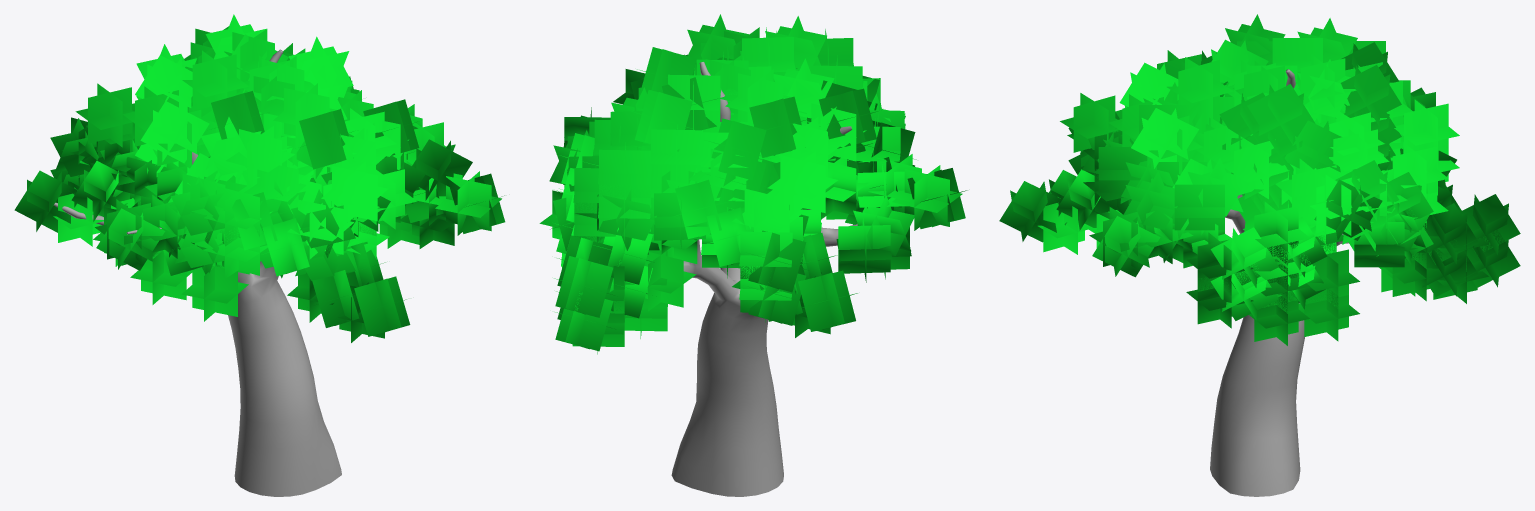
File: MDL_Tree_1.fbx
The picture shows the model from 3 angles, left to right: view 1: azimuth 30°, elevation 25°; view 2: azimuth 150°, elevation 25°; view 3: azimuth 270°, elevation 25°; orthographic projection. The views are drawn at different scales.
Parts seen in each view (by area): view 1: pPlane1 (×27), tree_1, pPlane2 (×18), pPlane3 (×13); view 2: pPlane1 (×30), pPlane2 (×37), tree_1, pPlane3 (×13); view 3: pPlane2 (×28), pPlane1 (×20), tree_1, pPlane3 (×3).
Part boxes in pixels (x1=…): pPlane1 (×27): x1=58, y1=32, x2=505, y2=336; tree_1: x1=53, y1=49, x2=341, y2=496; pPlane2 (×18): x1=14, y1=55, x2=472, y2=334; pPlane3 (×13): x1=50, y1=46, x2=501, y2=303; pPlane1 (×30): x1=553, y1=47, x2=965, y2=351; pPlane2 (×37): x1=564, y1=37, x2=940, y2=349; tree_1: x1=671, y1=62, x2=857, y2=496; pPlane3 (×13): x1=598, y1=26, x2=962, y2=300; pPlane2 (×28): x1=999, y1=38, x2=1520, y2=320; pPlane1 (×20): x1=1043, y1=58, x2=1448, y2=341; tree_1: x1=1210, y1=69, x2=1348, y2=496; pPlane3 (×3): x1=1123, y1=124, x2=1459, y2=255.
Size of the model in its own units: 11.98 by 13.06 by 14.97.
